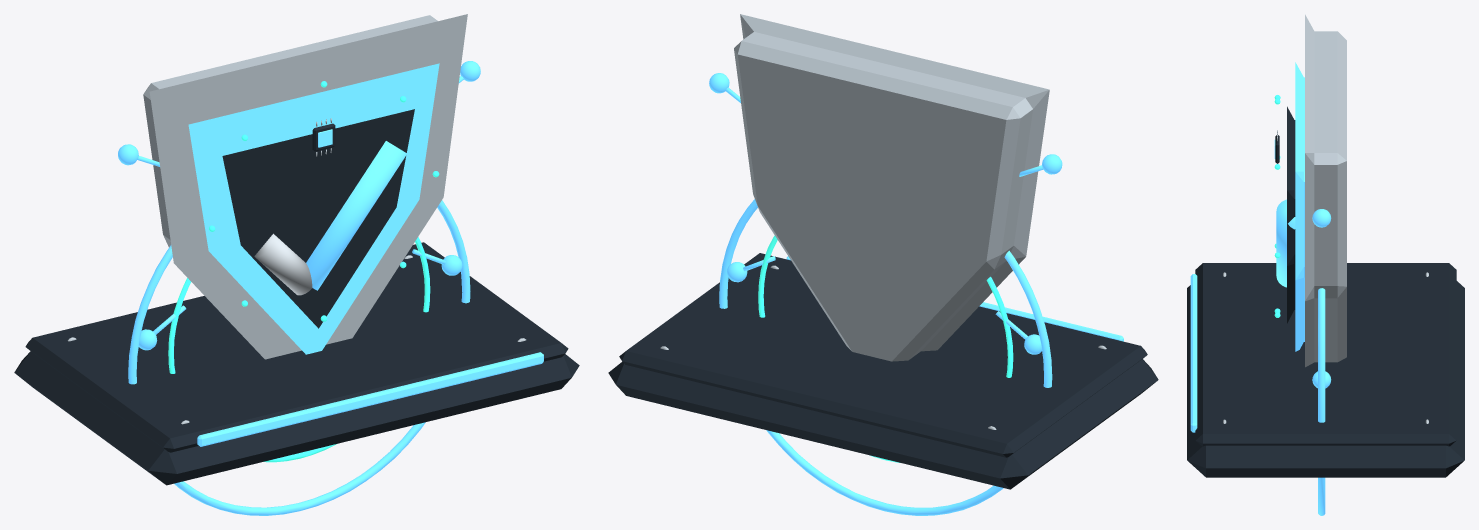
File: Artifact_Trust.glb
The picture shows the model from 3 angles, left to right: view 1: azimuth 30°, elevation 25°; view 2: azimuth 150°, elevation 25°; view 3: azimuth 270°, elevation 25°; orthographic projection. The views are drawn at different scales.
Visible parts, largest first — view 1: Artifact_Trust_Body; view 2: Artifact_Trust_Body; view 3: Artifact_Trust_Body.
Part boxes in pixels (left/top/right/bottom): Artifact_Trust_Body: left=14, top=14, right=579, bottom=515; Artifact_Trust_Body: left=608, top=14, right=1158, bottom=515; Artifact_Trust_Body: left=1187, top=14, right=1464, bottom=515.
Bounding box in the file's own units: 2.12 × 2.18 × 1.32.
